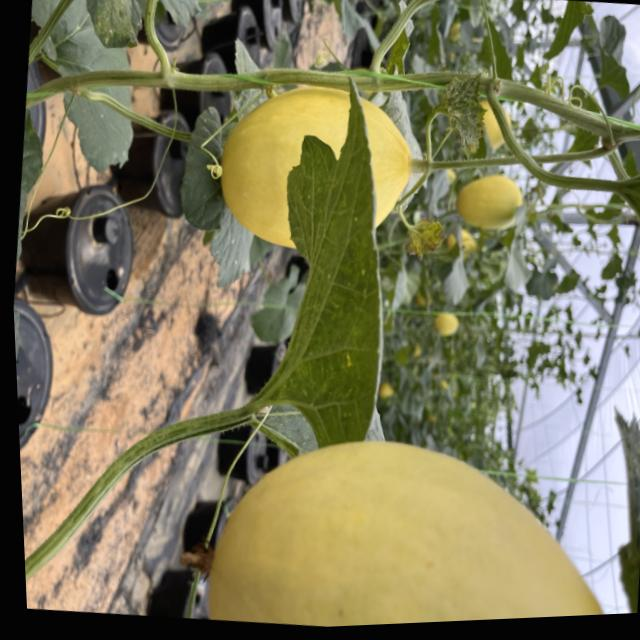CMV: (428, 66, 492, 158)
alternaria leaf blight: (431, 66, 497, 162)
downy mildew: (246, 105, 412, 448), (68, 0, 148, 48)
